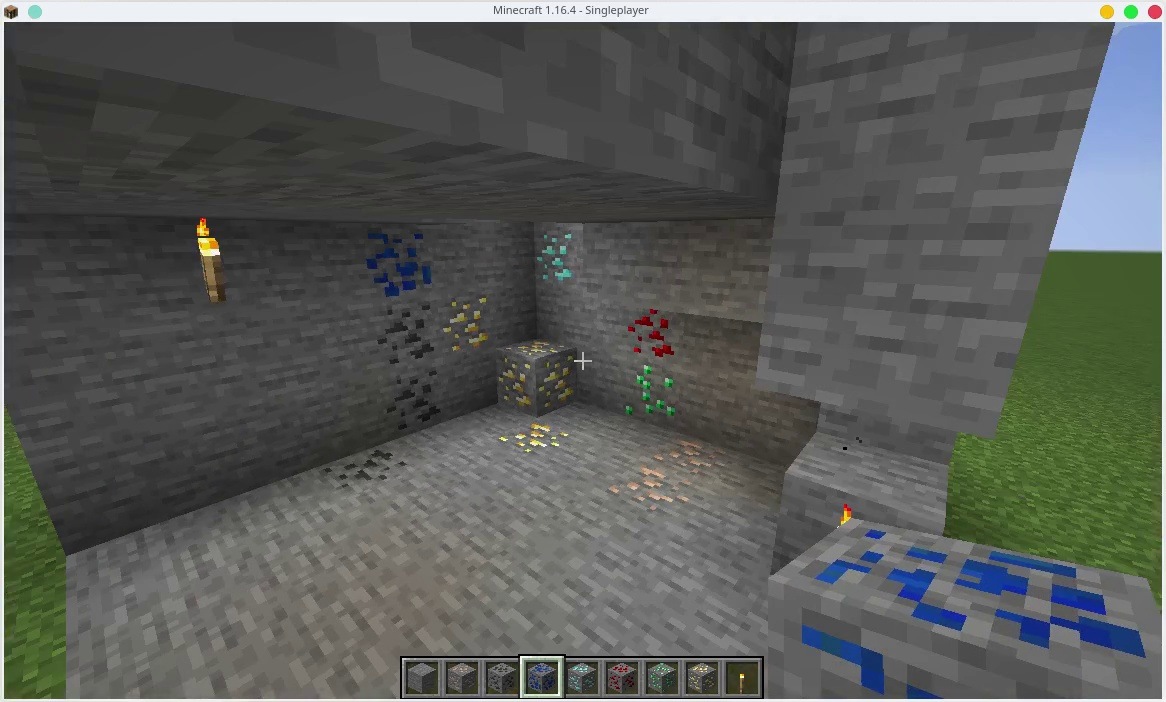gold: (497, 339, 579, 408), (489, 415, 572, 460), (443, 297, 493, 352), (688, 664, 718, 695)
